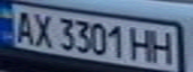0: (90, 20, 109, 56)
1: (106, 22, 130, 58)
3: (72, 18, 93, 55), (54, 16, 75, 52)
A: (9, 7, 36, 45)
H: (127, 25, 157, 63), (148, 28, 178, 65)
X: (27, 11, 57, 48)
